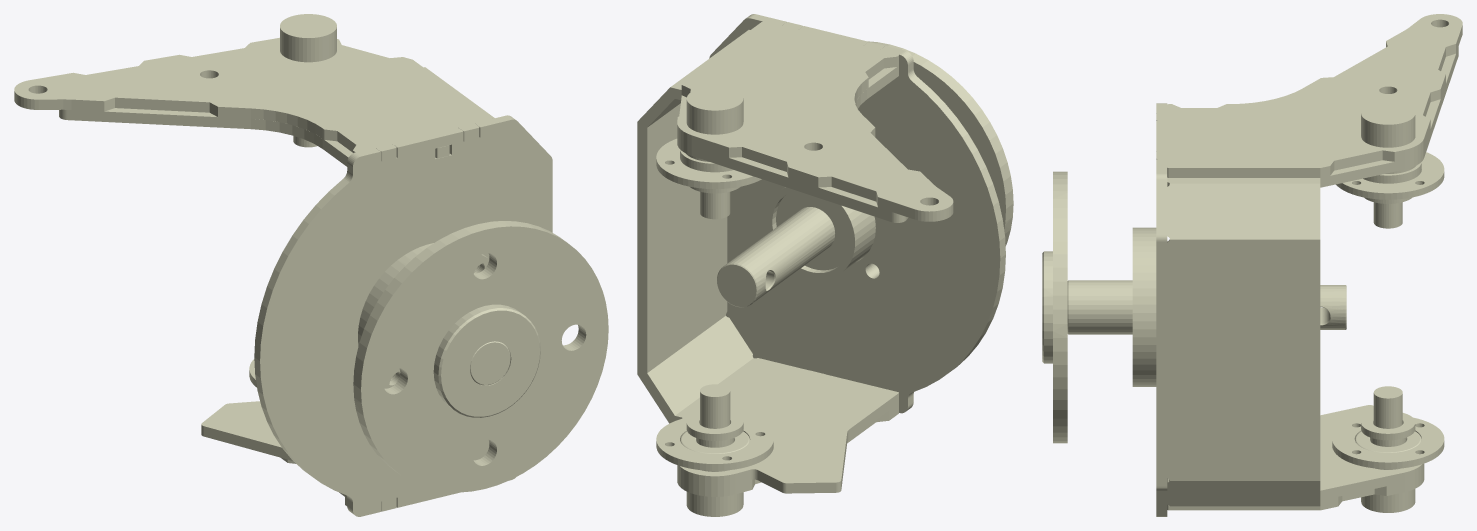
File: rear_left_link.dae
3 renders of one model, left to right at view 1: azimuth 30°, elevation 25°; view 2: azimuth 150°, elevation 25°; view 3: azimuth 270°, elevation 25°, orthographic. The views are drawn at different scales.
Parts seen in each view (by area): view 1: node0; view 2: node0; view 3: node0.
Part boxes in pixels (box(x1,y1,x2,y2)): node0: box(14, 14, 608, 516); node0: box(637, 14, 1013, 516); node0: box(1042, 14, 1462, 516).
Size of the model in its own units: 0.2347 by 0.2321 by 0.2365.
